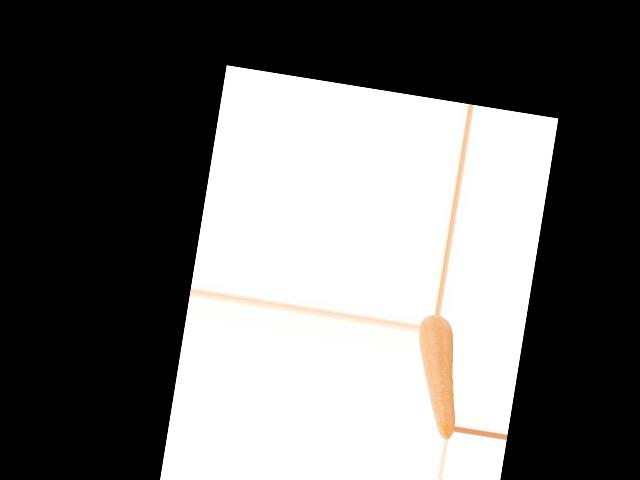carrot: (403, 312, 471, 438)
